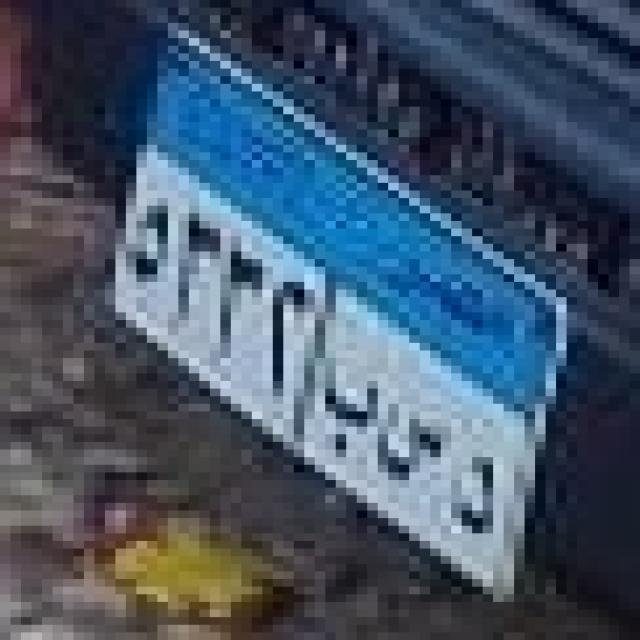2: (265, 266, 316, 404)
3: (172, 205, 228, 331), (212, 231, 268, 356)
5: (132, 184, 180, 294)
Seen: (371, 396, 452, 490)
baa: (316, 376, 388, 456)
daal: (444, 451, 518, 542)
